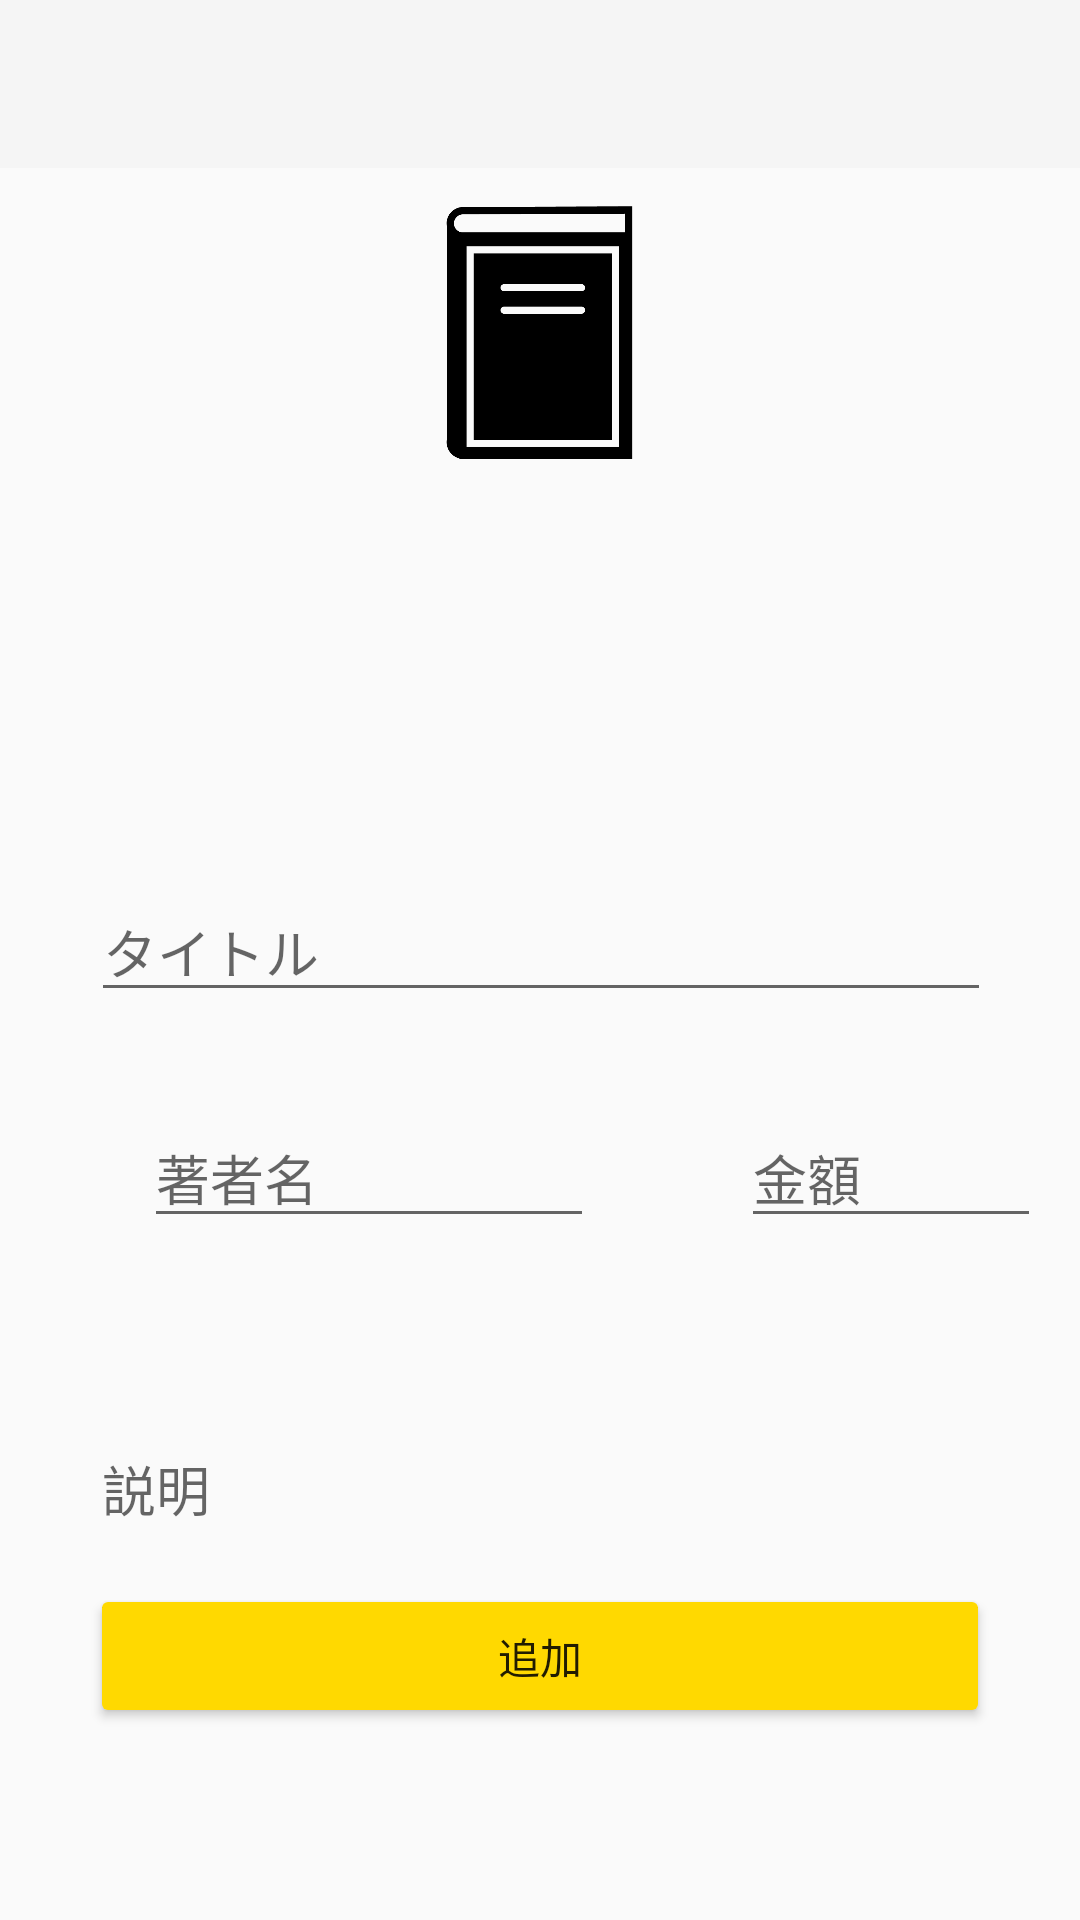

Locate icon controls on the screen. Image size 1080 x 1920, boxes as (x1, y1, x2, y2).
book: (446, 206, 633, 459)
